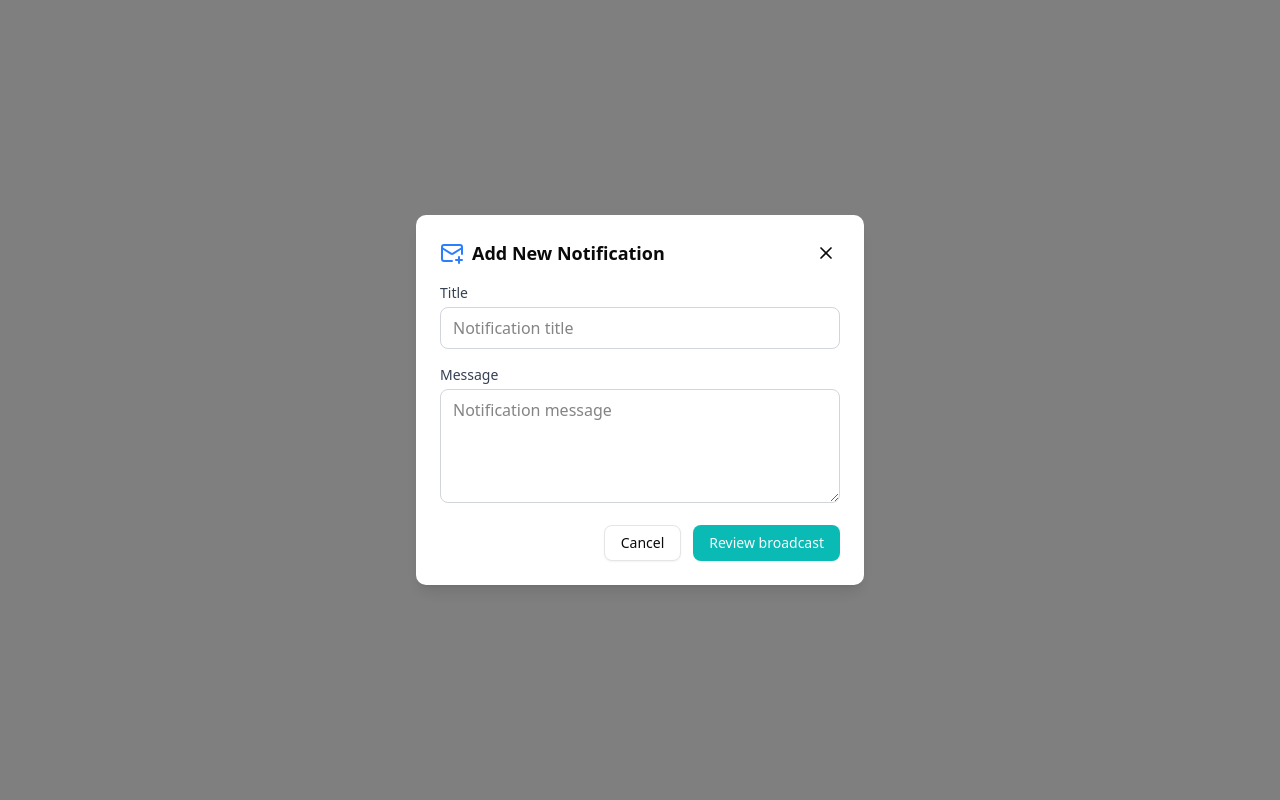
Scenario: AddNotificationModal — the first click never broadcasts › still confirms, without inventing a number, when the count cannot be read
Type "Markets closed Friday" into the field with placeholder "Notification title" at point(640, 328), box [440,307,840,349]
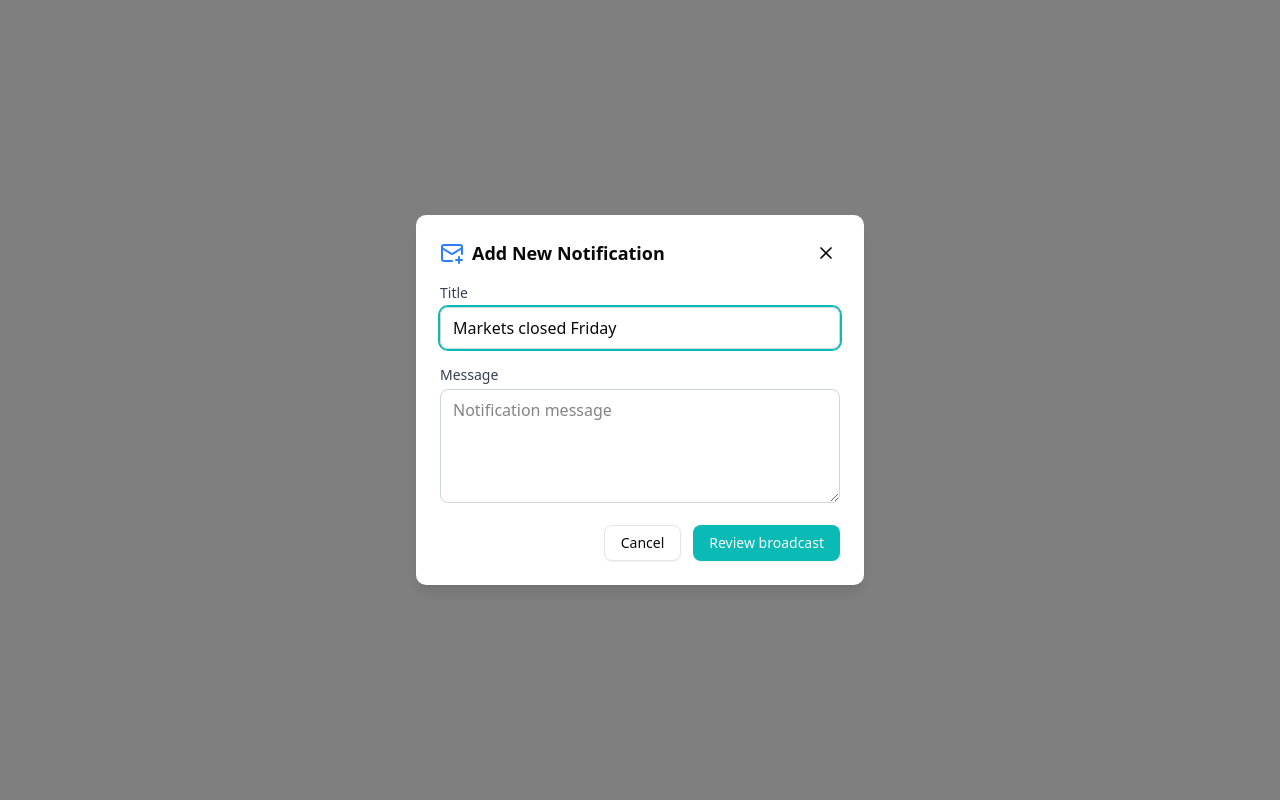
Type "The desk is shut for the holiday." into the text box with placeholder "Notification message" at point(640, 446), box [440,389,840,503]
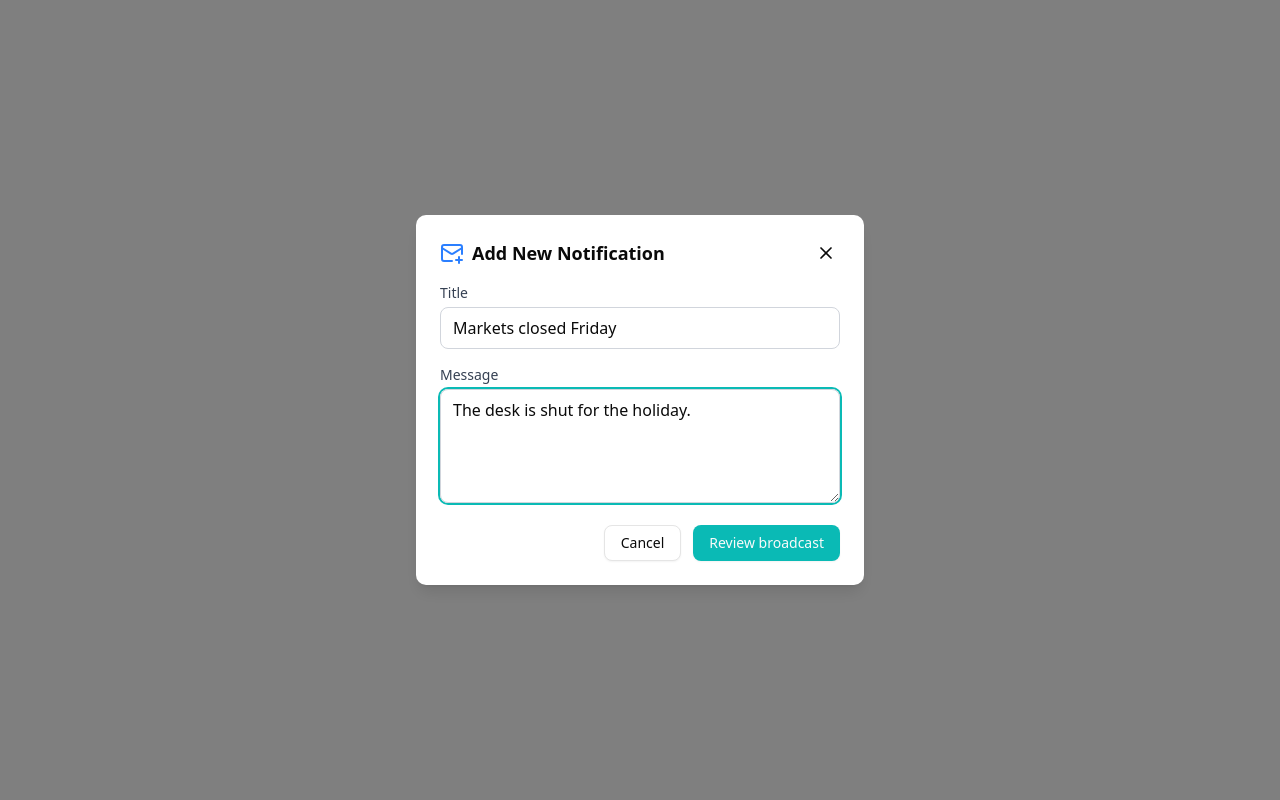
Click the button "Review broadcast" at point(767, 543), box [693,525,840,561]
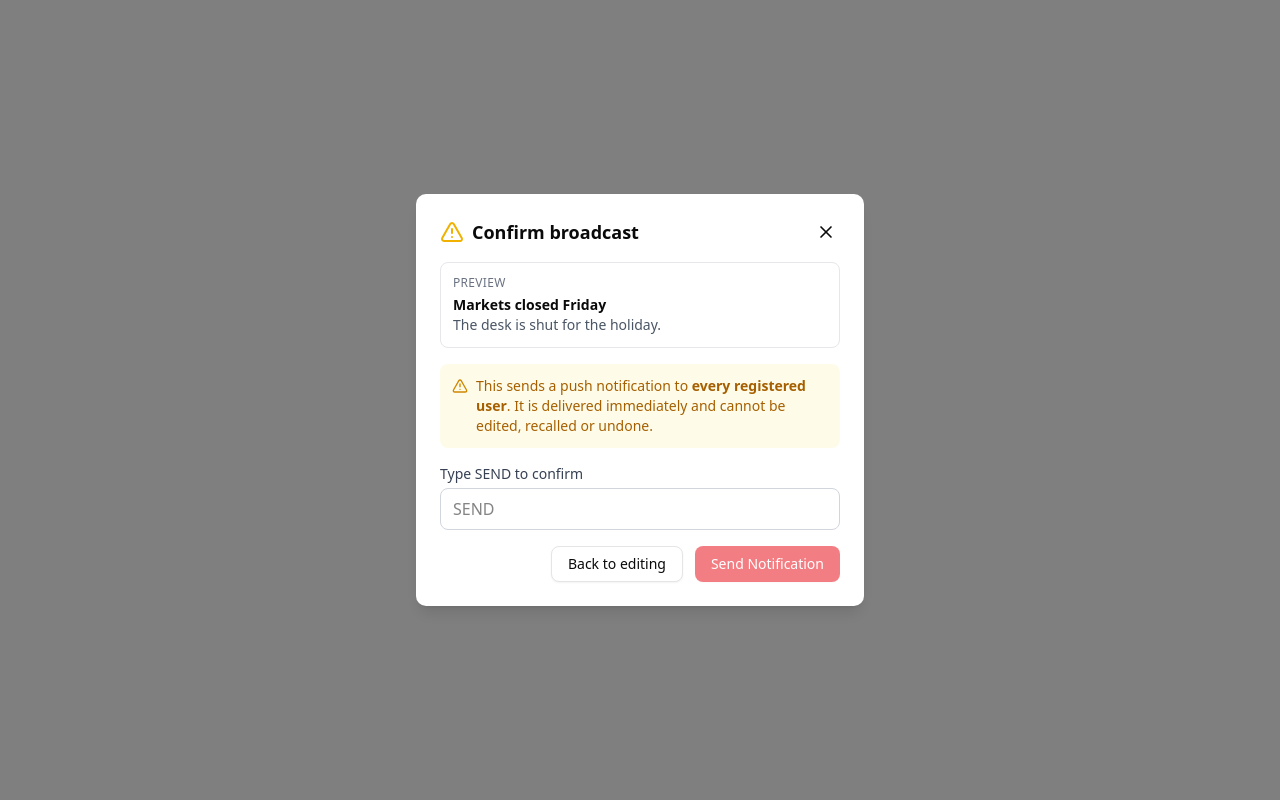
Expected: the text "every registered user" is shown, [476,376,806,415]
